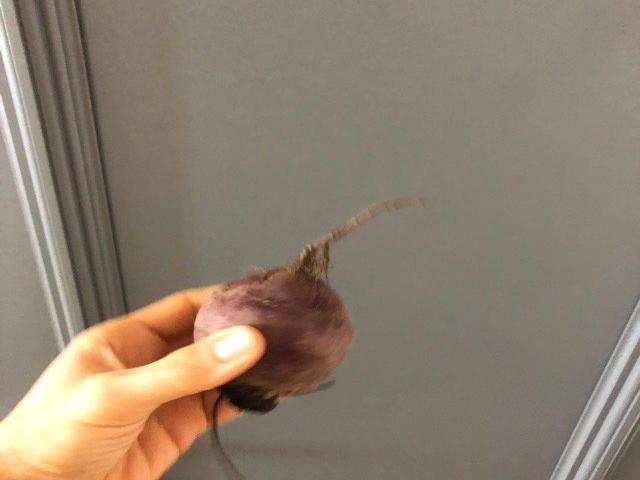beet: (194, 197, 433, 480)
